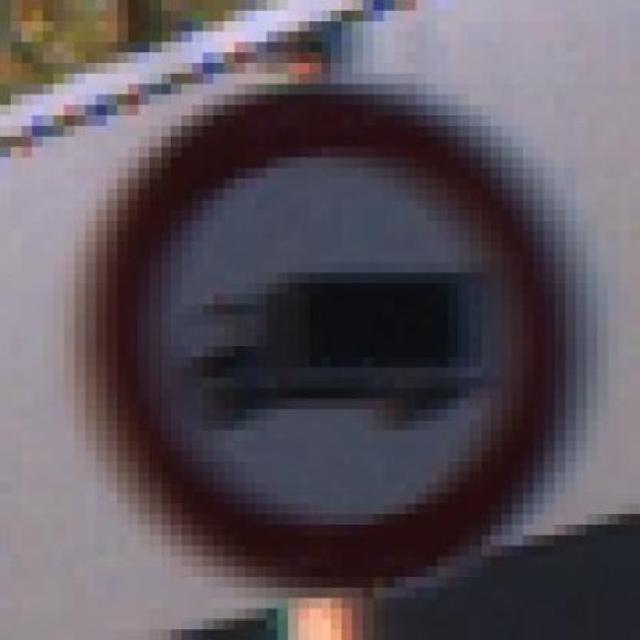Truck traffic is prohibited: (64, 73, 619, 598)
